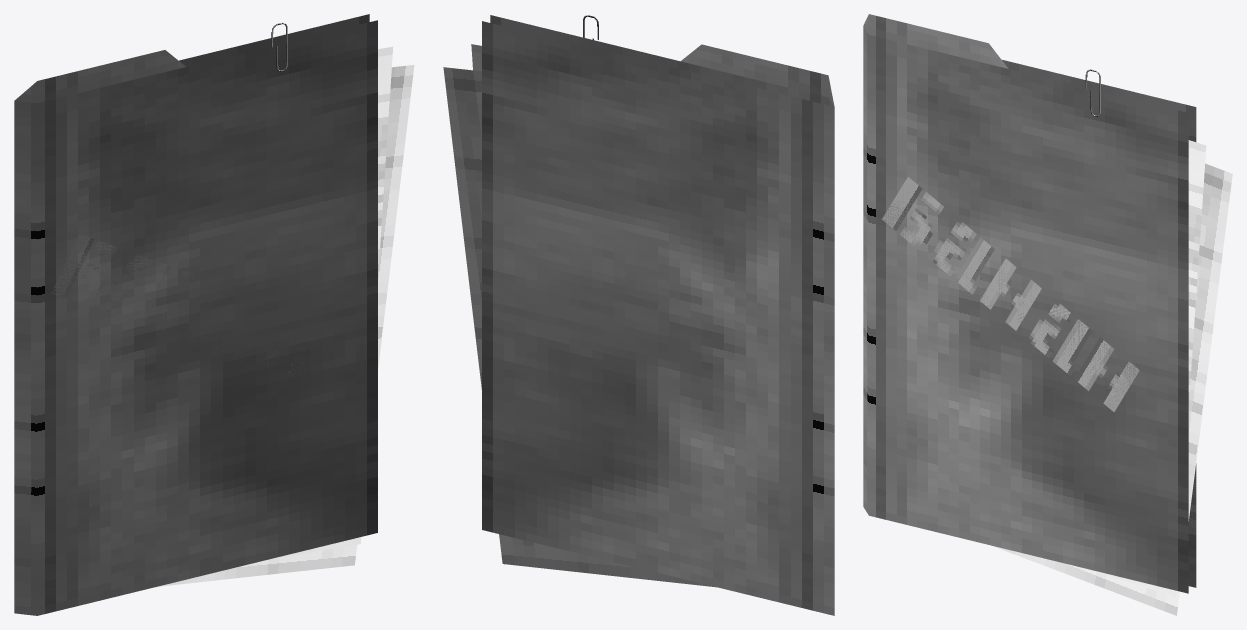
Rendered from PchrplansZ.obj.
3 views of the same model, side by side, from view 1: azimuth 30°, elevation 25°; view 2: azimuth 150°, elevation 25°; view 3: azimuth 330°, elevation 25° (orthographic). The views are drawn at different scales.
Bounding box in the file's own units: 466 × 636 × 20.
Materials: 5 (5 with a texture image).
